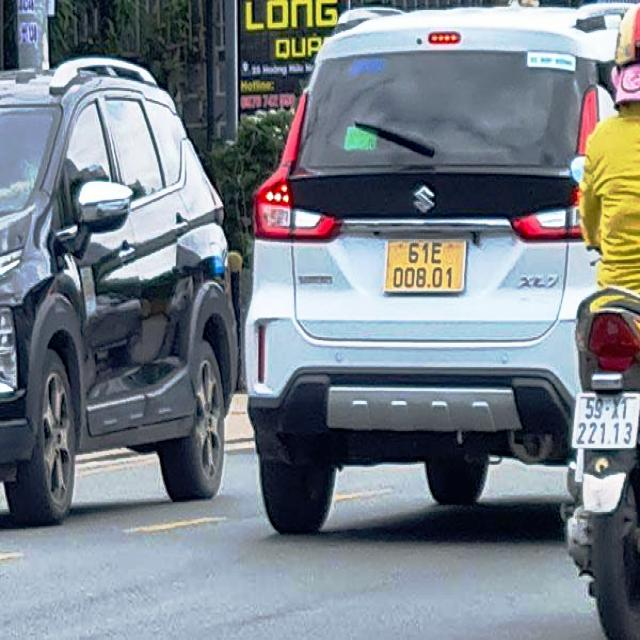license_plate: (388, 239, 466, 293), (575, 393, 640, 451)
